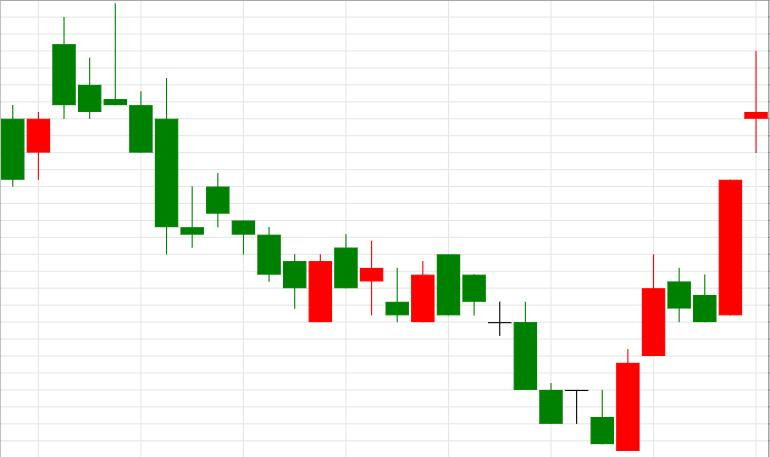bullish_engulfing_rise: (437, 255, 639, 451), (206, 173, 333, 322)
